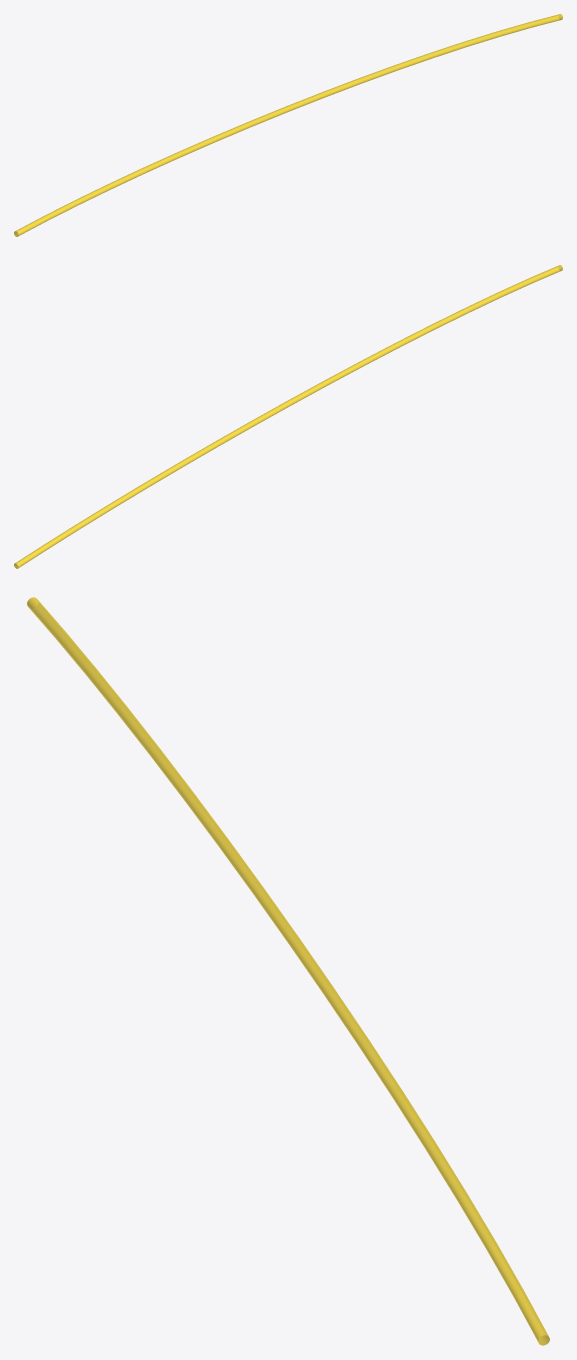
The model's file is Event_17758602_track_163.fbx.
The picture shows the model from 3 angles, top to bottom: view 1: azimuth 30°, elevation 25°; view 2: azimuth 210°, elevation 25°; view 3: azimuth 270°, elevation 25°; orthographic projection. The views are drawn at different scales.
Visible parts, largest first — view 1: Model; view 2: Model; view 3: Model.
Part boxes in pixels (x1,y1,x2,y2): Model: (14,14,562,236); Model: (14,265,562,568); Model: (27,597,549,1345).
Size of the model in its own units: 5.11 by 0.352 by 1.72.
